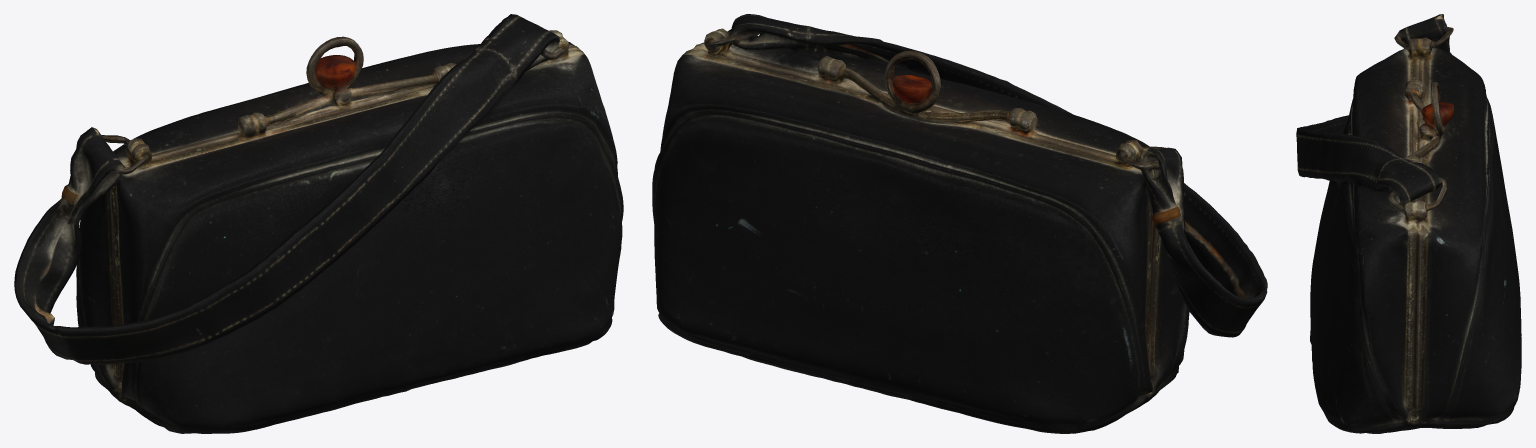
File: handbag (1).glb
The picture shows the model from 3 angles, left to right: view 1: azimuth 30°, elevation 25°; view 2: azimuth 150°, elevation 25°; view 3: azimuth 270°, elevation 25°; orthographic projection. The views are drawn at different scales.
Parts seen in each view (by area): view 1: Object_2; view 2: Object_2; view 3: Object_2.
Part boxes in pixels (x1,y1,x2,y2): Object_2: [14, 14, 623, 433]; Object_2: [652, 14, 1267, 433]; Object_2: [1296, 14, 1521, 433].
Bounding box in the file's own units: 4.11 × 2.13 × 1.65.
1 material, 1 textured.
